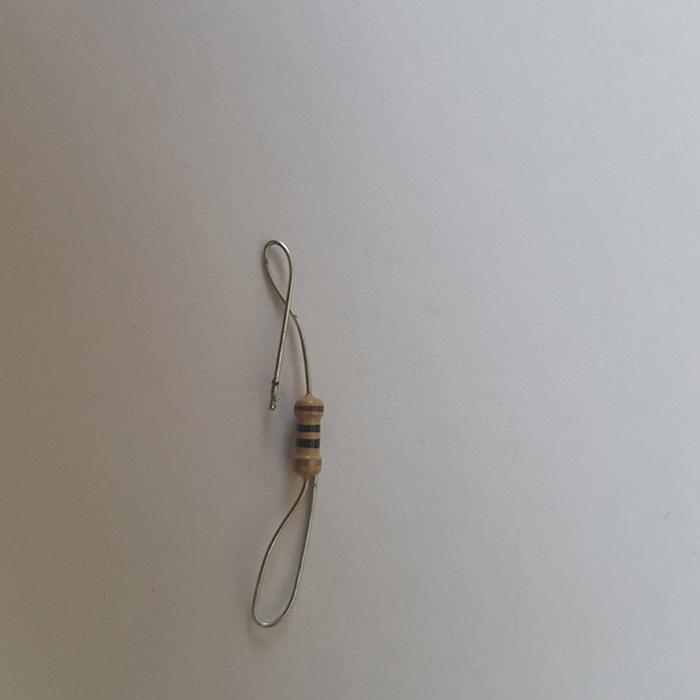resistor: (293, 395, 325, 476)
